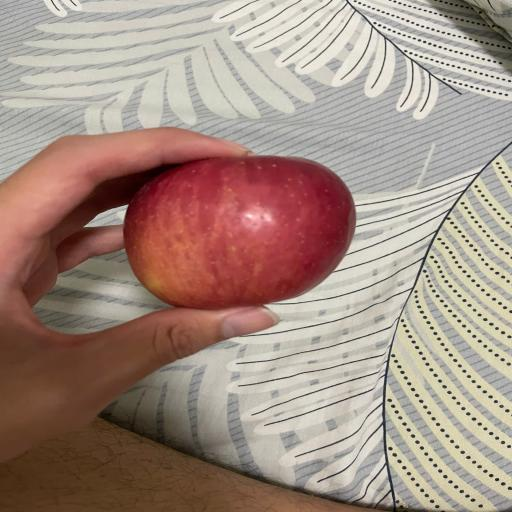apple: (124, 156, 356, 309)
